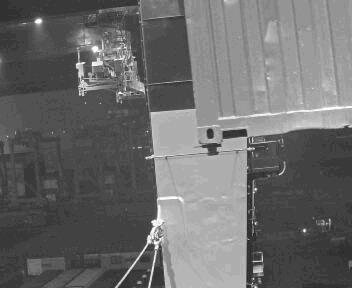twist_lock_1: (203, 140, 231, 160)
